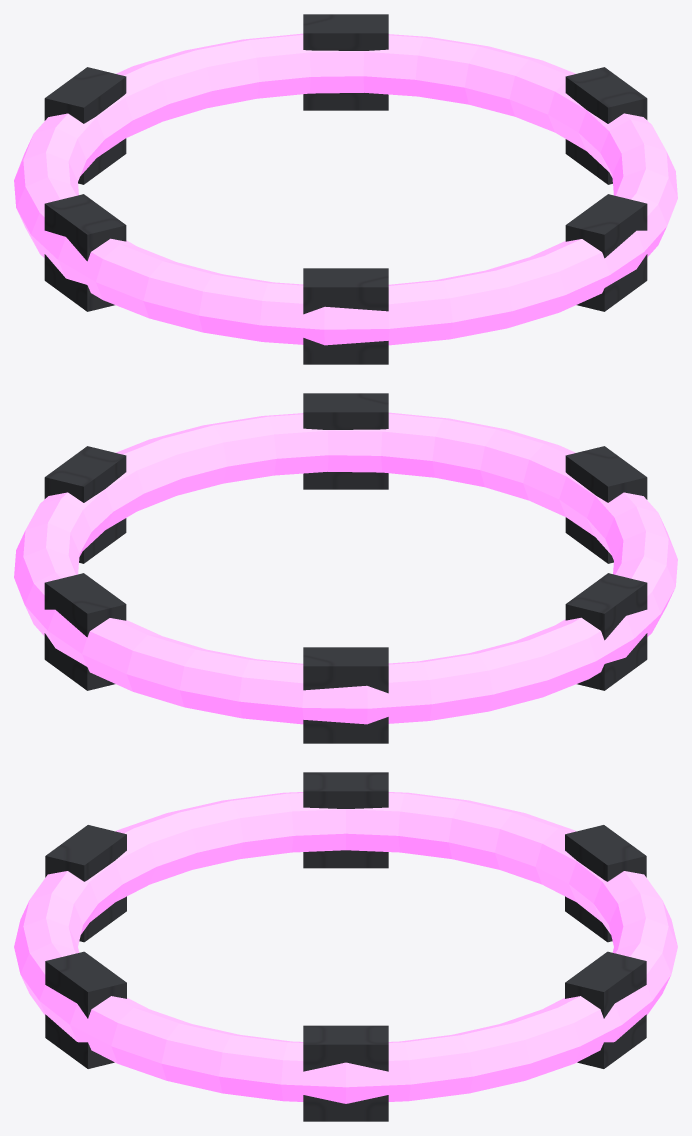
The model's file is Accelerateur_Particules_Anneau.fbx.
3 views of the same model, one above another, from view 1: azimuth 30°, elevation 25°; view 2: azimuth 150°, elevation 25°; view 3: azimuth 270°, elevation 25° (orthographic).
Parts seen in each view (by area): view 1: Accelerateur_Particules_Anneau; view 2: Accelerateur_Particules_Anneau; view 3: Accelerateur_Particules_Anneau.
Part boxes in pixels (bbox=[...]): Accelerateur_Particules_Anneau: bbox=[14, 14, 677, 364]; Accelerateur_Particules_Anneau: bbox=[14, 393, 677, 743]; Accelerateur_Particules_Anneau: bbox=[14, 772, 677, 1121].
Size of the model in its own units: 664 by 85 by 664.
Materials: 2 (1 with a texture image).
